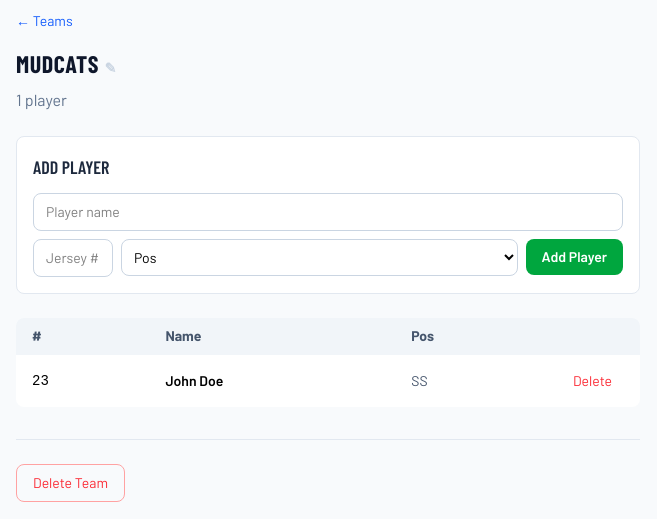
TeamDetailPage › Player Editing › cancels editing when Cancel is clicked
// Click on the player row to start editing
Click the text "John Doe": click(194, 380) 149,354 -> 395,407
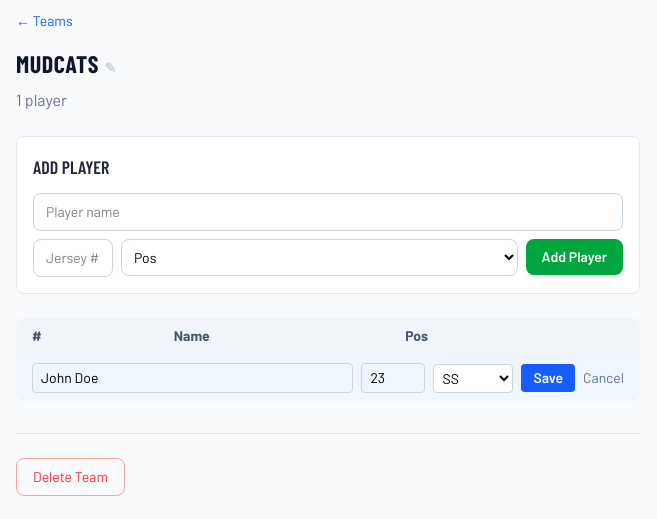
Expected: the 1st field showing "John Doe" is shown, 32,363 -> 354,393
// Click Cancel
Click the button "Cancel": click(604, 378) 583,368 -> 624,388
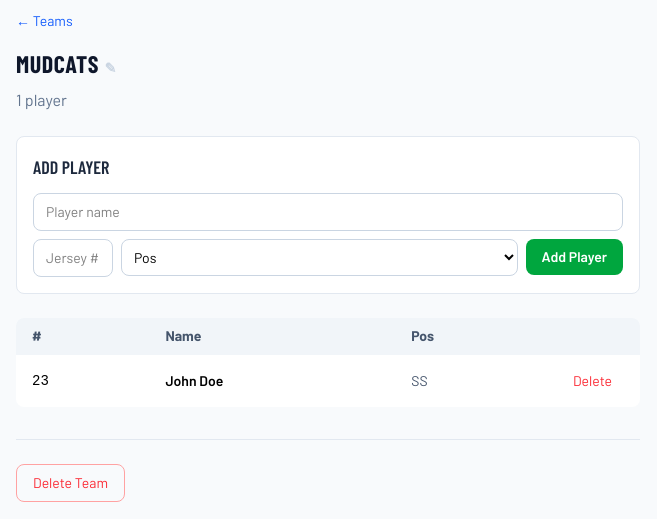
Expected: the text "John Doe" is shown, 149,354 -> 395,407
